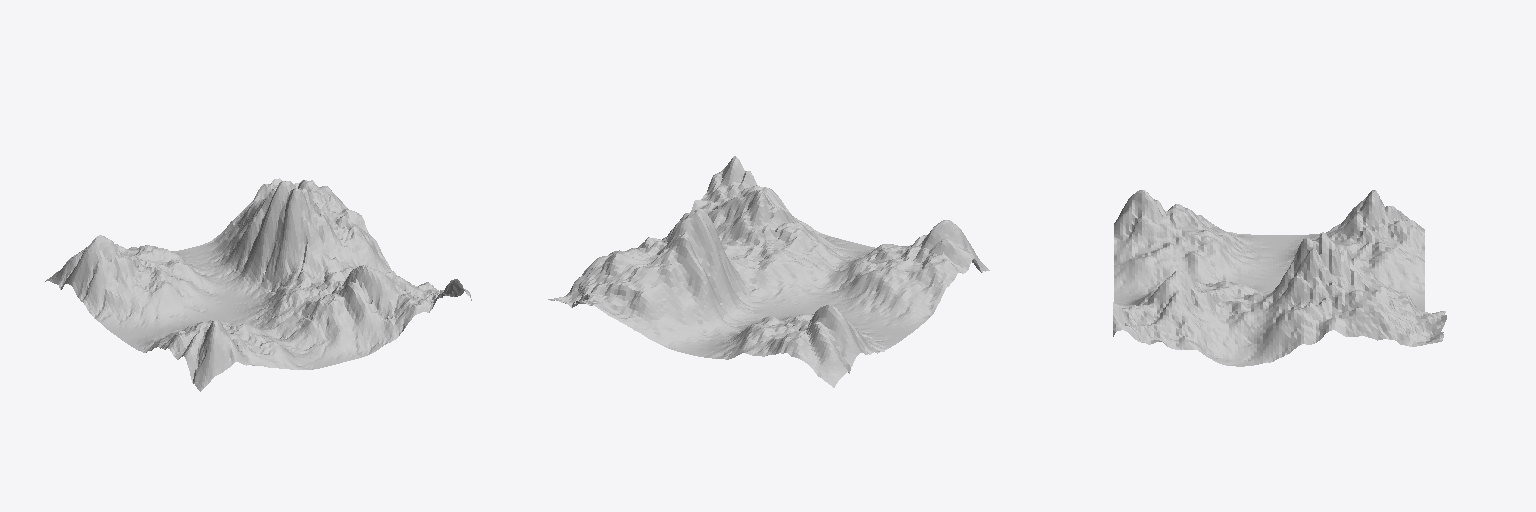
Rendered from terrain.obj.
3 renders of one model, left to right at view 1: azimuth 30°, elevation 25°; view 2: azimuth 150°, elevation 25°; view 3: azimuth 270°, elevation 25°, orthographic.
Visible parts, largest first — view 1: pPlane1; view 2: pPlane1; view 3: pPlane1.
Boxes of the visible parts, x1=… form: pPlane1: x1=45, y1=178, x2=471, y2=391; pPlane1: x1=548, y1=156, x2=989, y2=387; pPlane1: x1=1113, y1=190, x2=1446, y2=366.
Bounding box in the file's own units: 51.39 × 16.6 × 53.69.